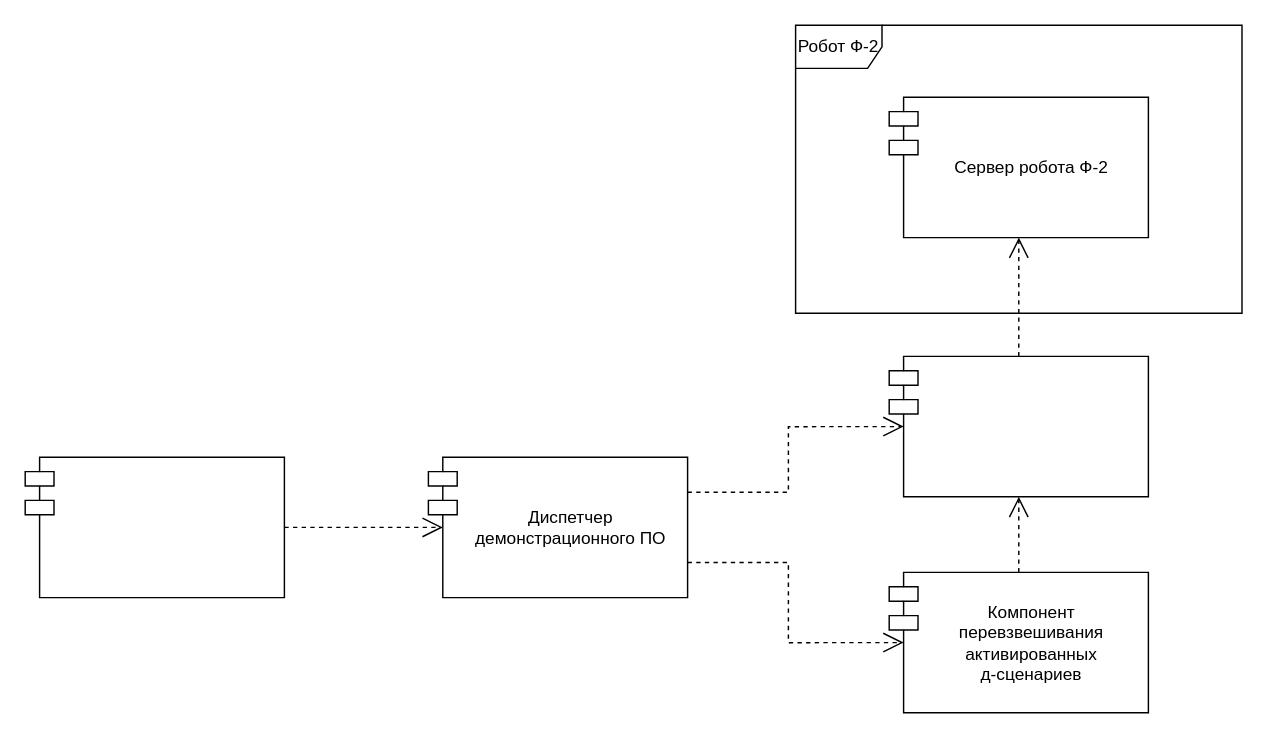
The diagram is 1267 pixels wide and 739 high, and some of its shapes have lost their labels. Here are the shapes that lost their labels. From the top down, the centre of each, then its label:
point (1018, 426): Компонент клиента сервера робота Ф-2
point (154, 527): Компонент графического интерфейса пользователя
